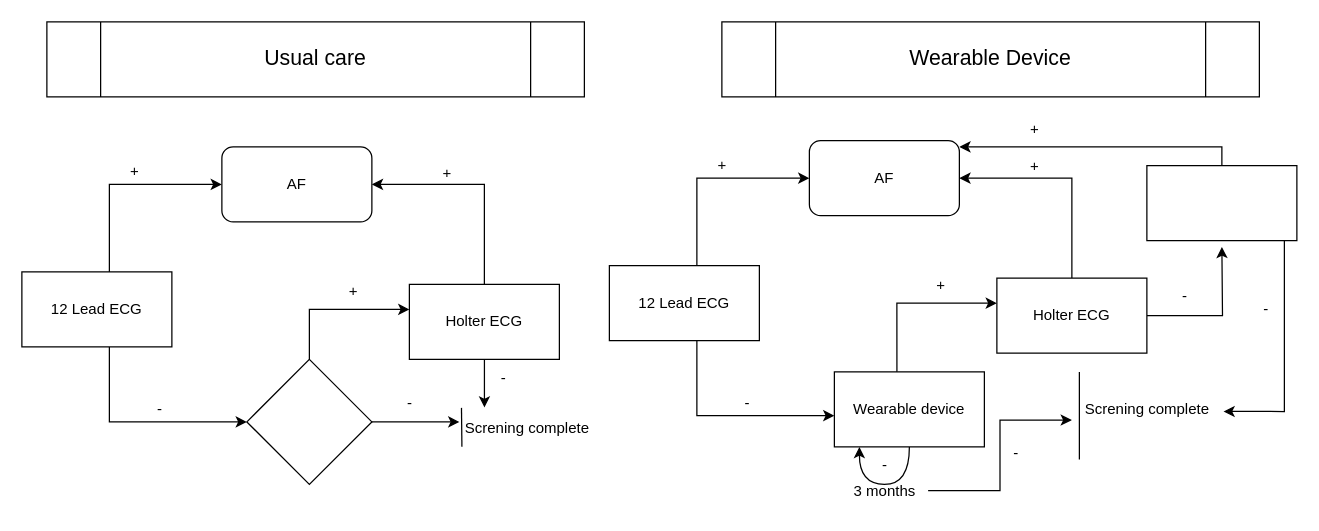
This 1319x531 diagram has some shape labels left out. Here are the shapes that lost their labels. From the top down, the box of each, then its label:
(1146, 164, 1297, 241): Patch ECG
(246, 358, 372, 484): SVex ?
